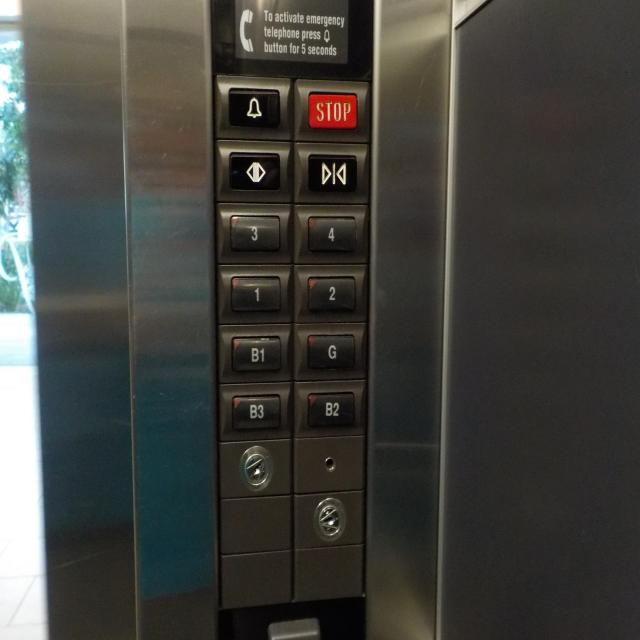1: (230, 275, 282, 312)
2: (307, 276, 356, 311)
3: (230, 215, 280, 252)
4: (308, 215, 357, 252)
B1: (231, 335, 281, 372)
B2: (307, 391, 355, 427)
B3: (231, 394, 281, 431)
G: (307, 334, 355, 369)
alarm: (228, 87, 280, 128)
close: (308, 153, 358, 192)
keyhole: (238, 445, 274, 492), (312, 496, 347, 542)
open: (229, 152, 280, 190)
text_stop: (308, 90, 358, 131)
